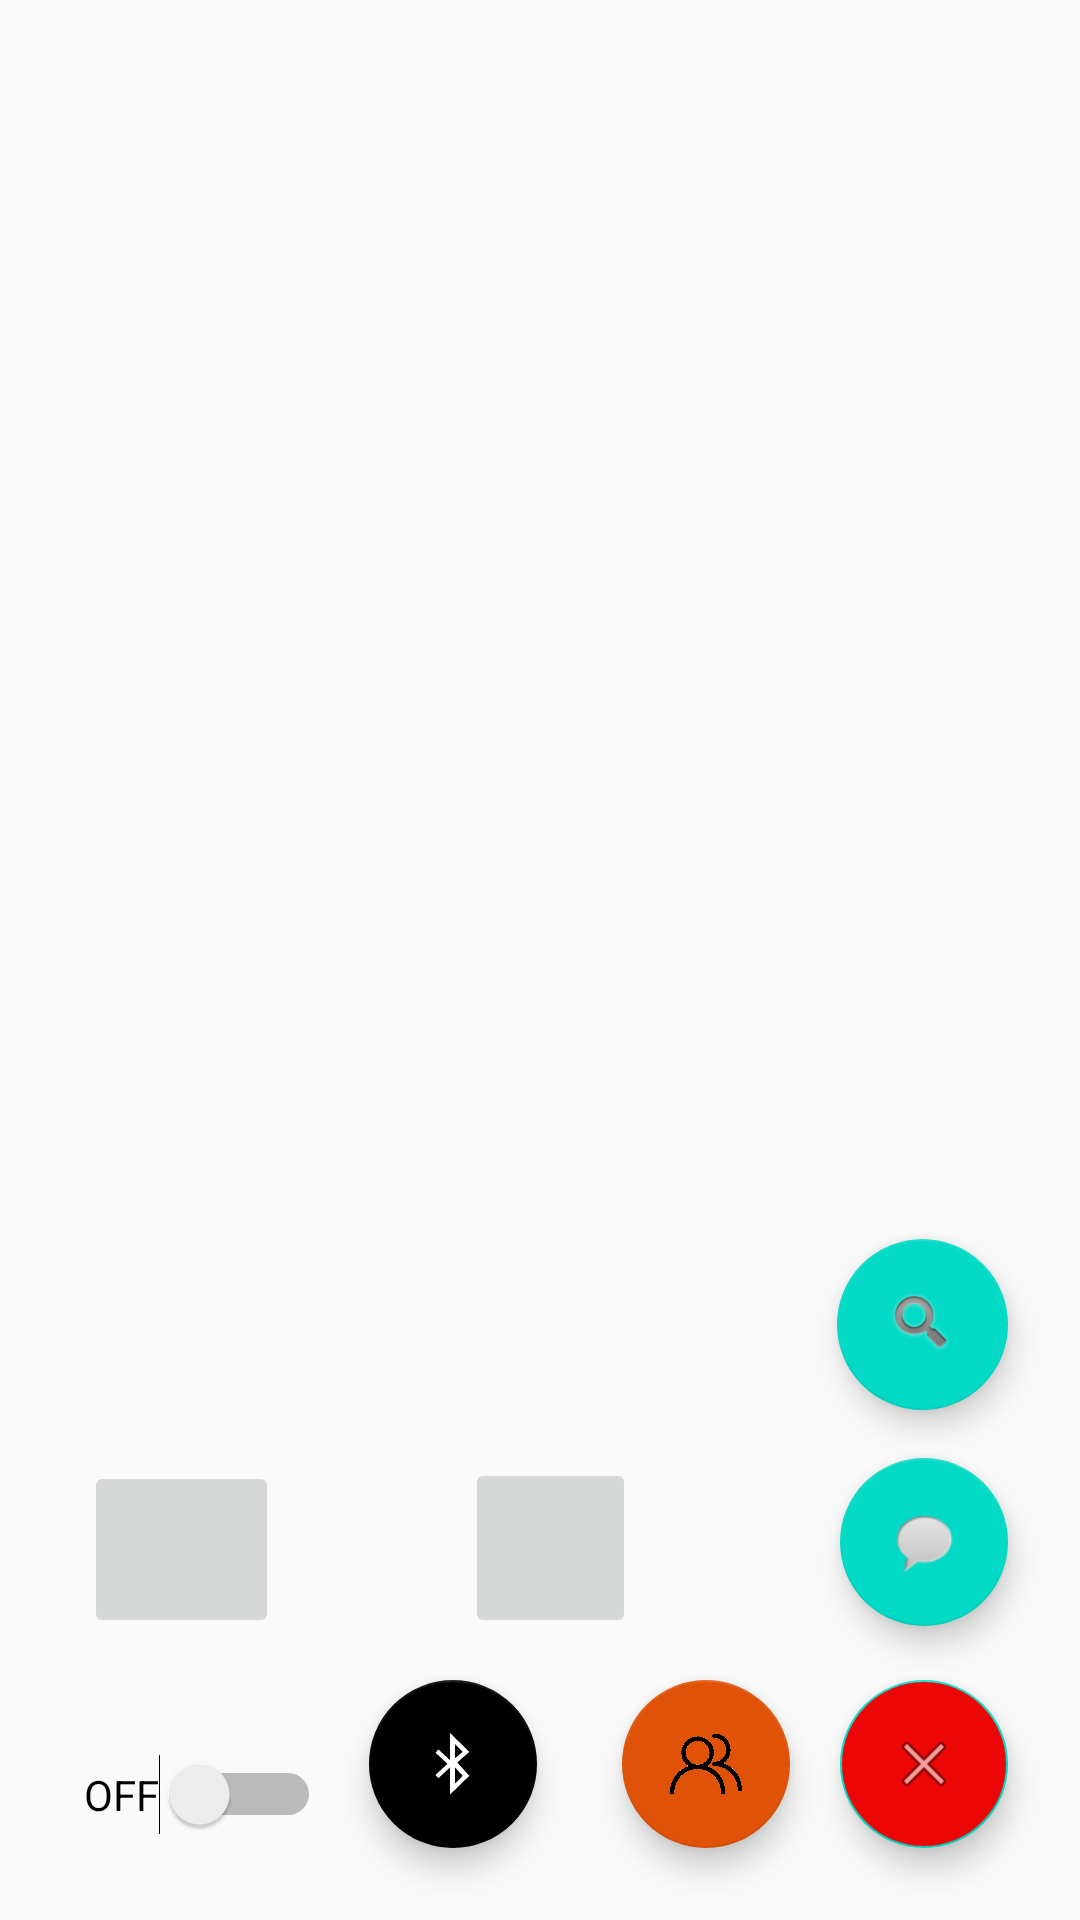

Point at icon controls on the screen. Image size 1080 x 1920, points as (x,y).
close clear cancel: (924,1764)
peers: (706,1764)
search category: (922,1324)
sym action chat: (924,1542)
